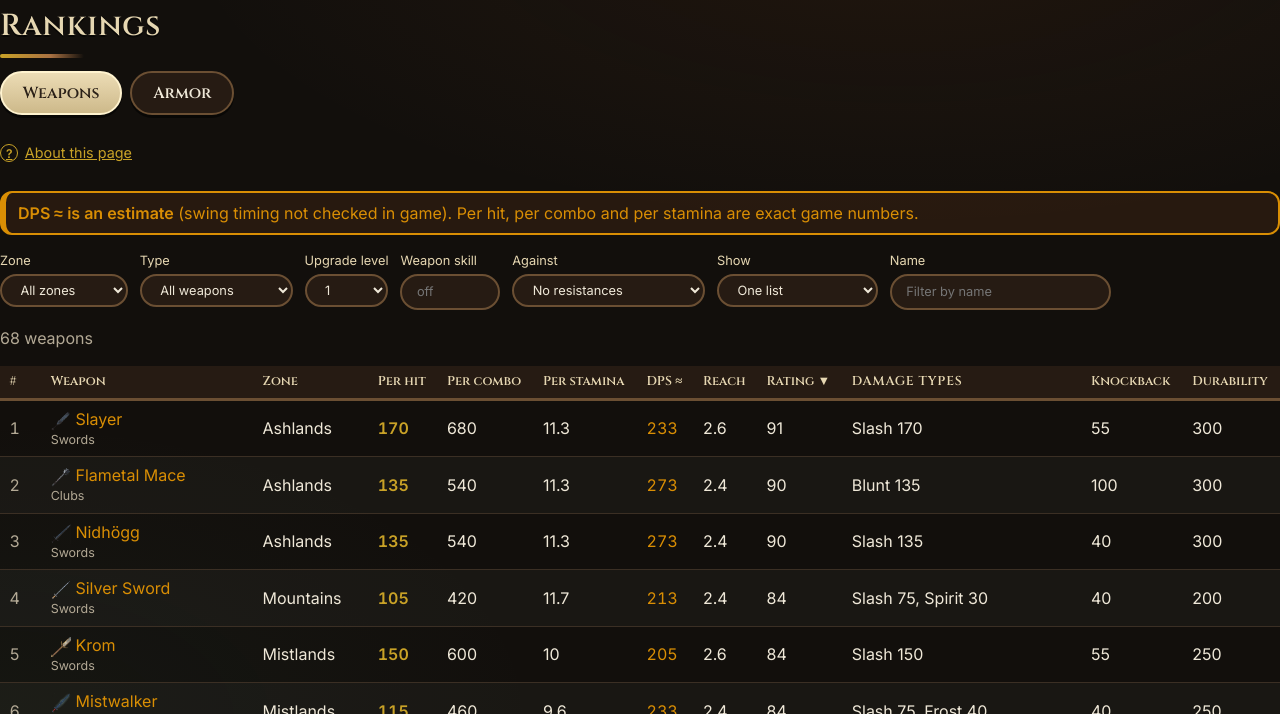
Scenario: weapon rankings page › can group the best weapons by zone
Select "Best in each zone" in the dropdown labelled "Show" at (797, 290), box 717,274 -> 878,307
(page scrolled)
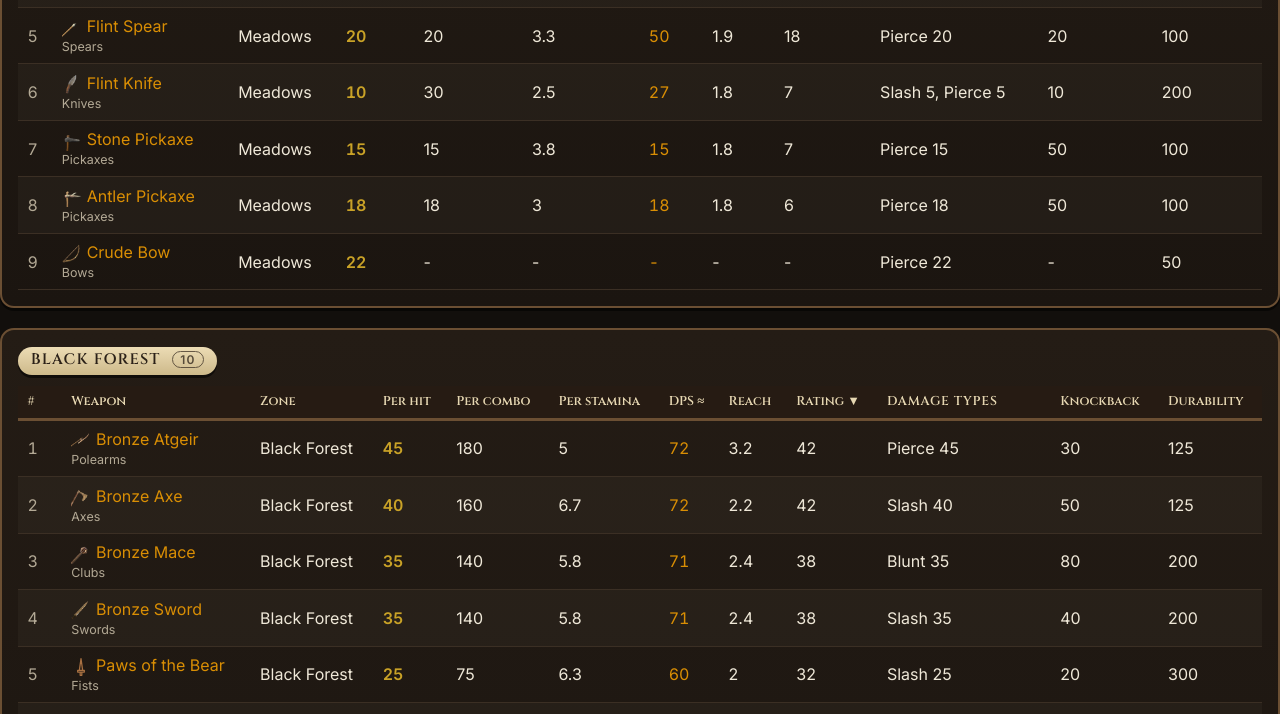
Result: the heading shows "Black Forest" at 31,349 -> 161,370
